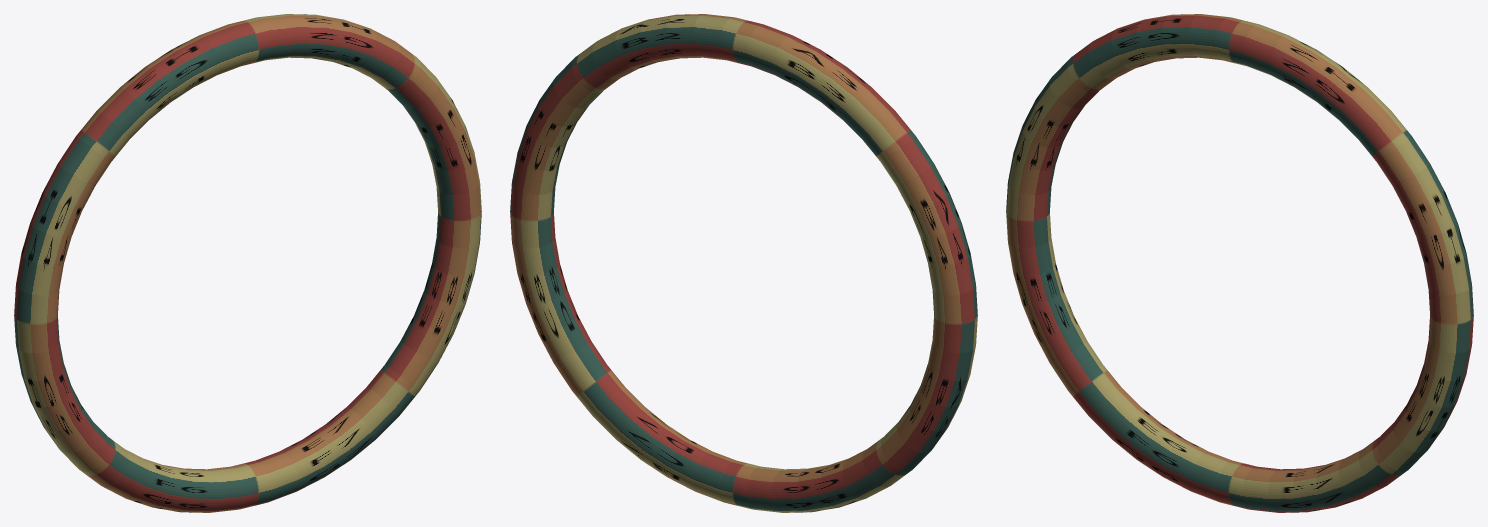
File: texture_torus_R23_r1.glb
3 views of the same model, side by side, from view 1: azimuth 30°, elevation 25°; view 2: azimuth 150°, elevation 25°; view 3: azimuth 330°, elevation 25° (orthographic).
Visible parts, largest first — view 1: world; view 2: world; view 3: world.
Boxes of the visible parts, left/top/right/bottom form: world: left=14, top=14, right=481, bottom=512; world: left=510, top=14, right=977, bottom=512; world: left=1006, top=14, right=1473, bottom=512.
Bounding box in the file's own units: 27.6 × 27.55 × 2.26.
Materials: 1 (1 with a texture image).
